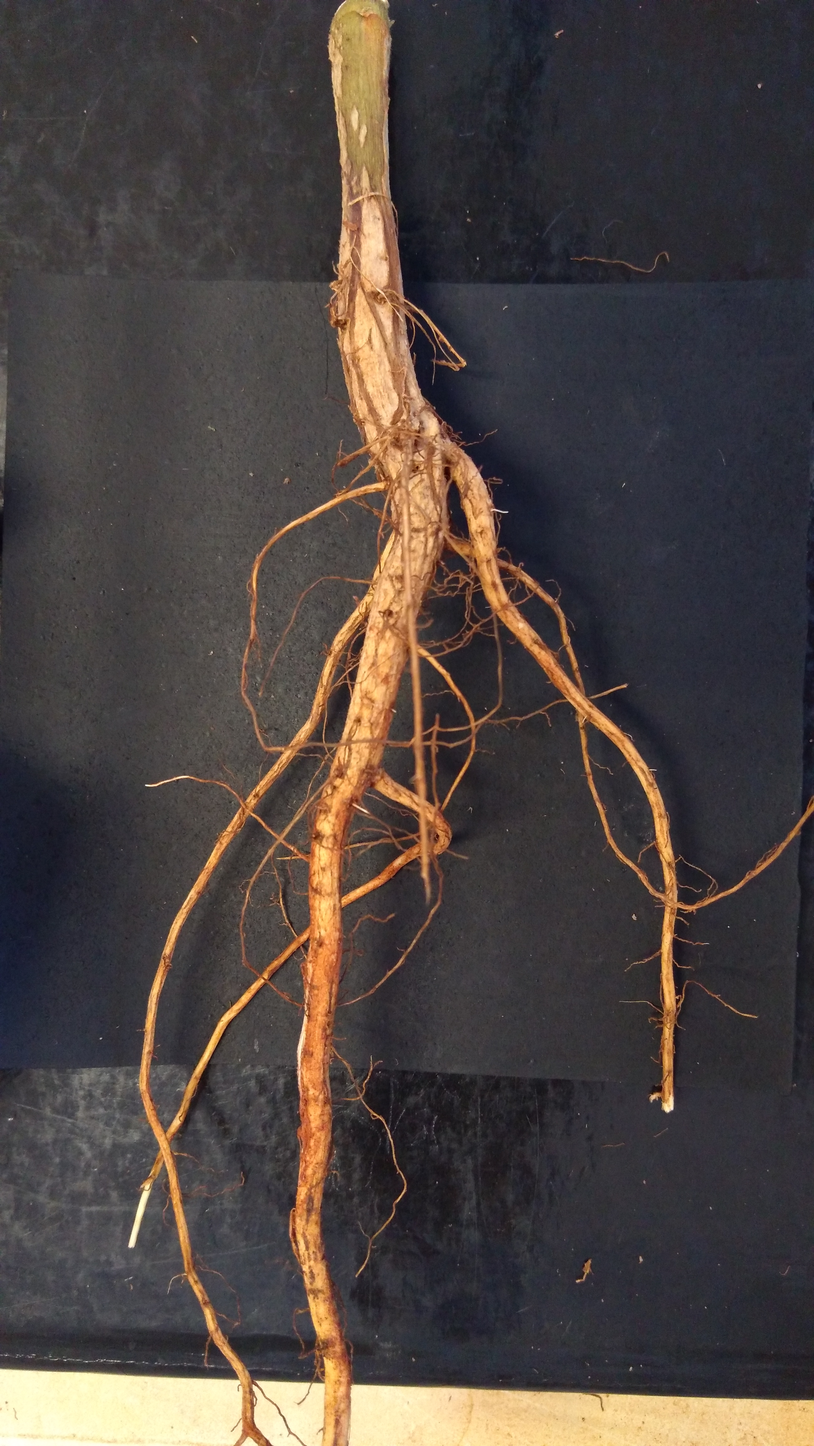nodule: (388, 419, 417, 446), (329, 299, 345, 328), (329, 280, 343, 296), (552, 652, 560, 663), (353, 595, 358, 602)
